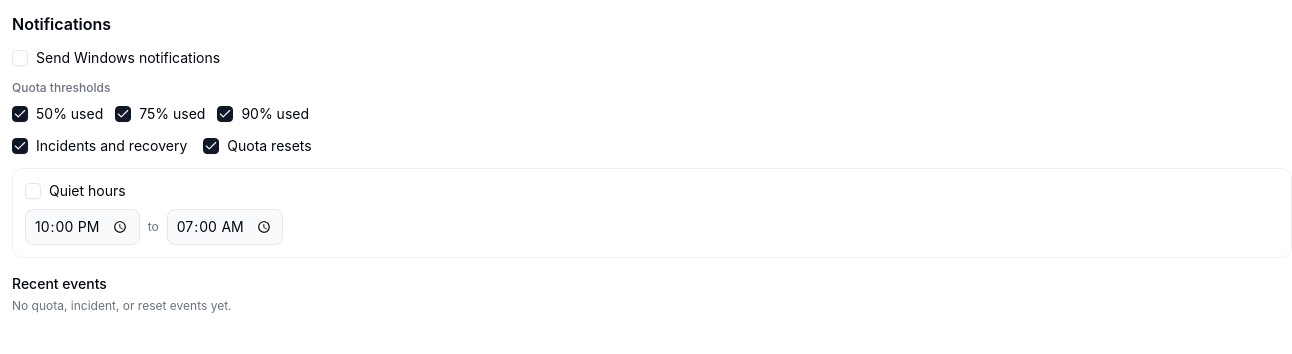
it: NotificationSettingsSection › does not enable native delivery when permission is denied
Click the checkbox named "Send Windows notifications".
click(20, 58)  # box [12,50,28,66]
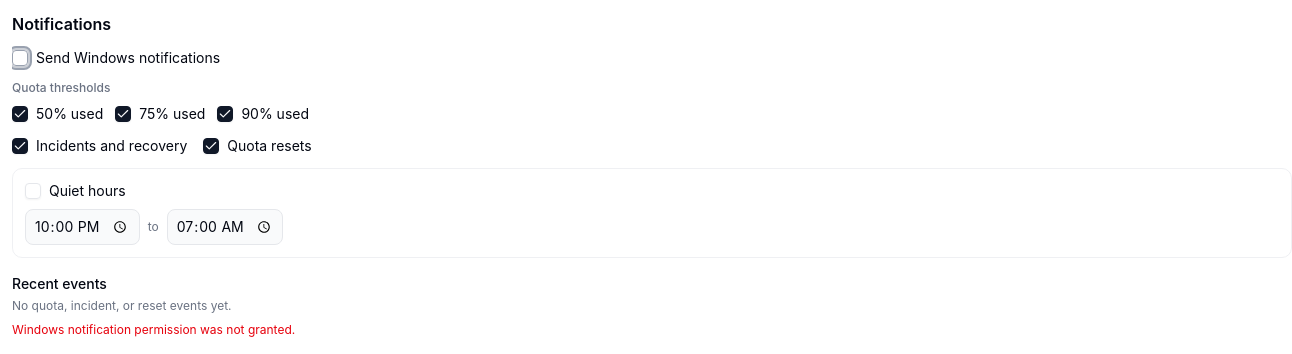
Expected: the text "Windows notification permission was not granted." is shown, [12,322,295,337]
